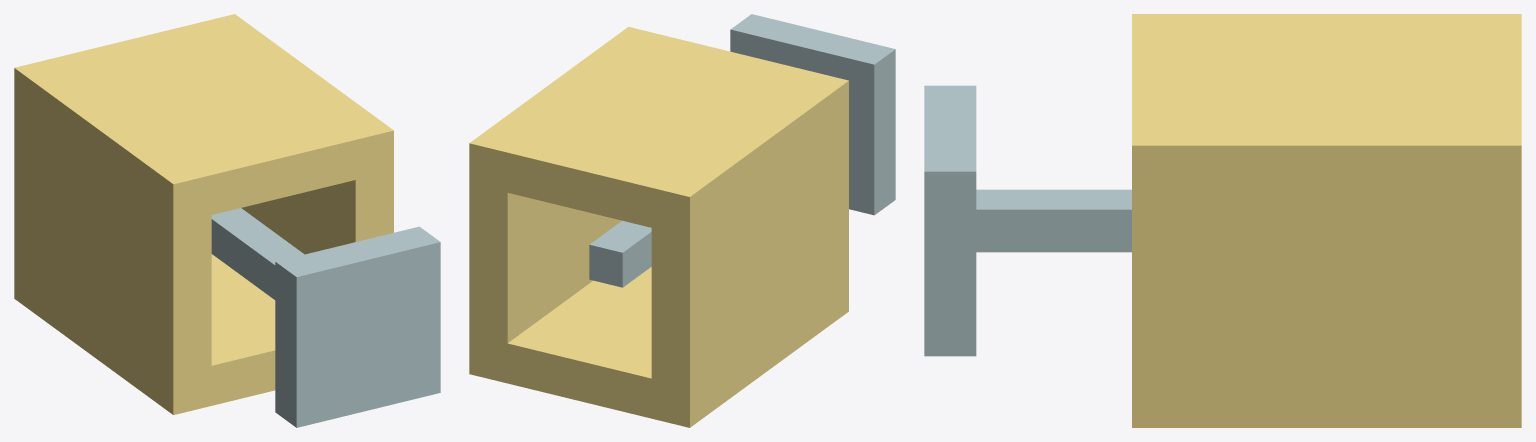
The model's file is lampSquareCeiling.obj.
3 renders of one model, left to right at view 1: azimuth 30°, elevation 25°; view 2: azimuth 150°, elevation 25°; view 3: azimuth 270°, elevation 25°, orthographic. The views are drawn at different scales.
Parts seen in each view (by area): view 1: lampSquareCeiling; view 2: lampSquareCeiling; view 3: lampSquareCeiling.
Part boxes in pixels (left/top/right/bottom): lampSquareCeiling: left=14, top=14, right=440, bottom=427; lampSquareCeiling: left=469, top=14, right=895, bottom=427; lampSquareCeiling: left=924, top=14, right=1521, bottom=427.
Size of the model in its own units: 0.24 by 0.24 by 0.46.
